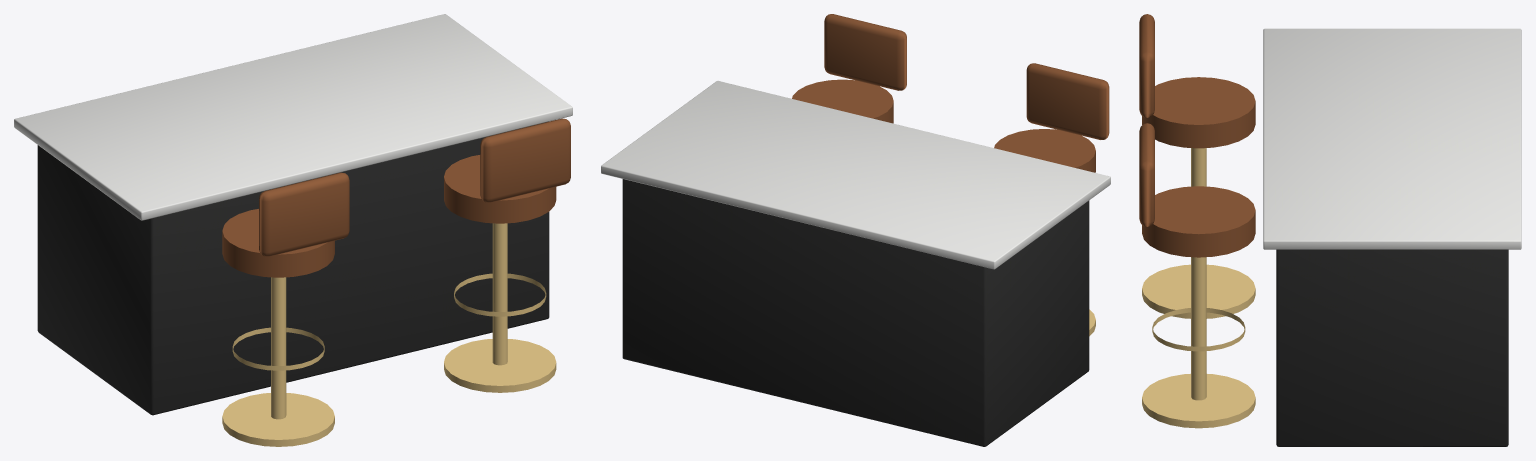
The model's file is fur_kitchen_island.glb.
The picture shows the model from 3 angles, left to right: view 1: azimuth 30°, elevation 25°; view 2: azimuth 150°, elevation 25°; view 3: azimuth 270°, elevation 25°; orthographic projection. The views are drawn at different scales.
Visible parts, largest first — view 1: FUR_kitchen_island; view 2: FUR_kitchen_island; view 3: FUR_kitchen_island.
Part boxes in pixels (x1,y1,x2,y2): FUR_kitchen_island: (14,14,572,446); FUR_kitchen_island: (601,14,1110,446); FUR_kitchen_island: (1139,14,1521,446).
Size of the model in its own units: 1.95 by 1.12 by 1.48.
2 materials, 1 textured.
